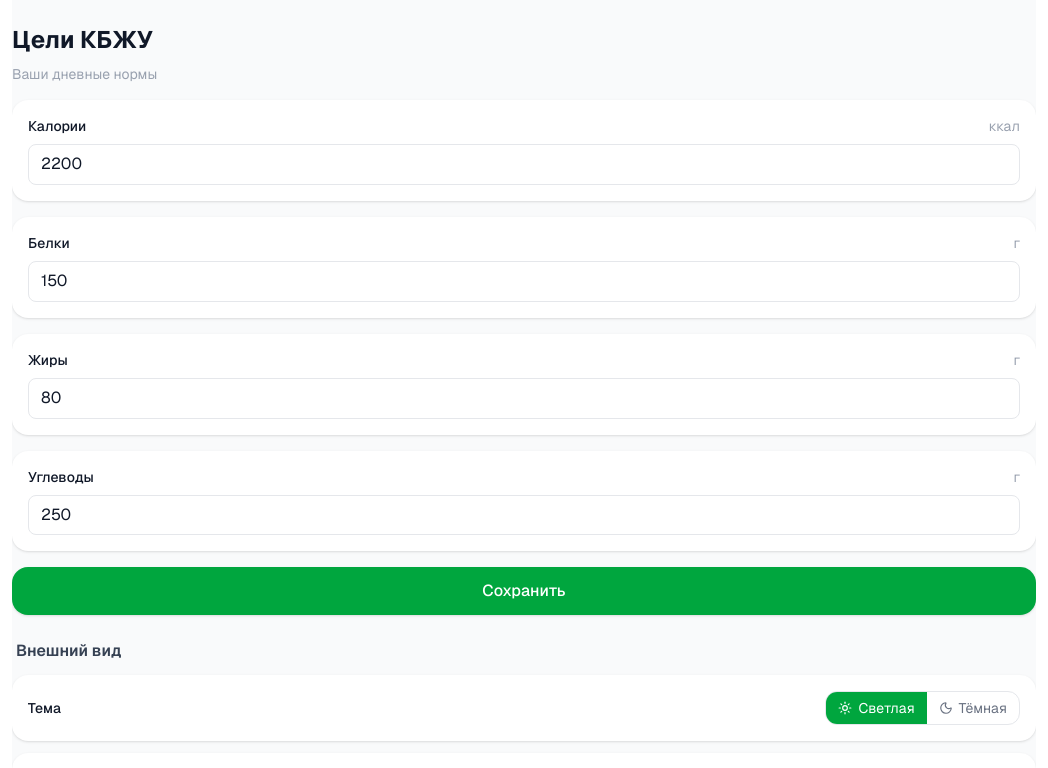
Test: SettingsClient › save_ShouldShowSuccessMessage_AfterSave
Click the button "Сохранить": x=524, y=591 top-left (12, 567), bottom-right (1036, 615)
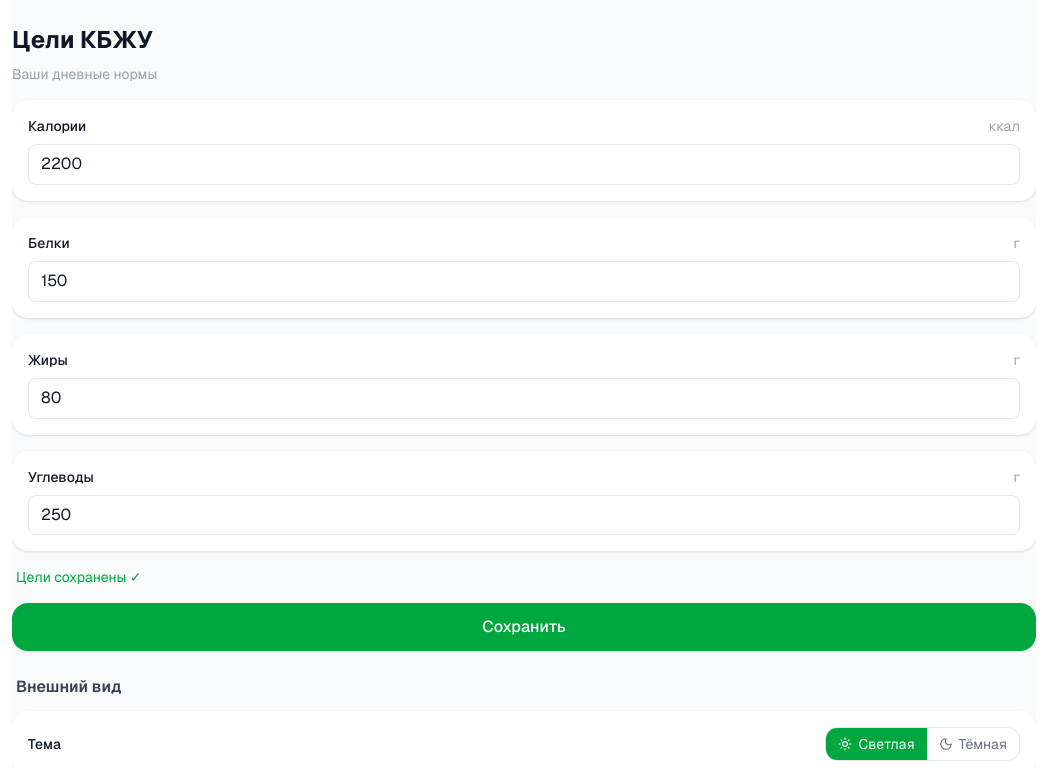
Expected: the text "Цели сохранены ✓" is shown, top-left (16, 568), bottom-right (142, 586)
